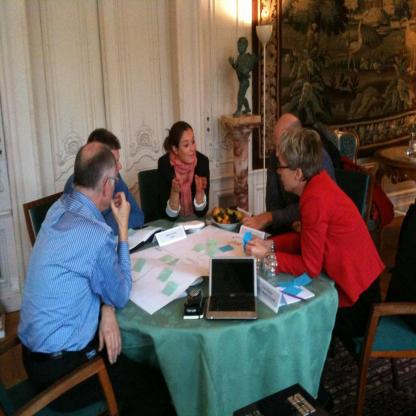board: (203, 256, 258, 320), (268, 240, 277, 285)
